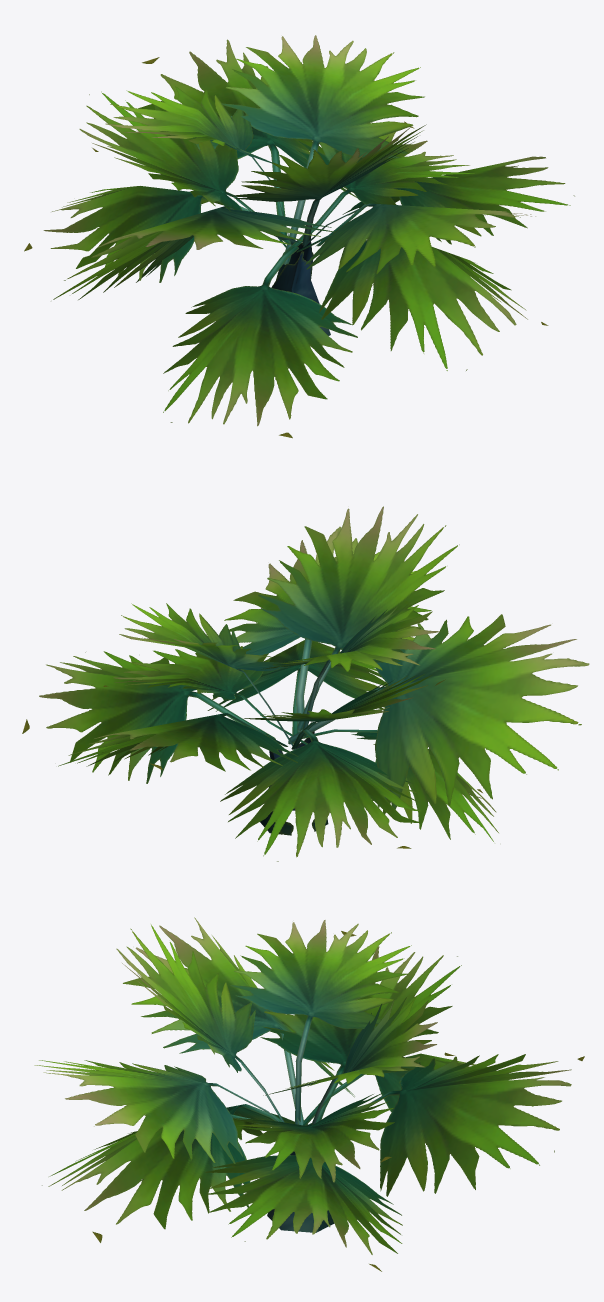
The model's file is grass_11.fbx.
3 views of the same model, one above another, from view 1: azimuth 30°, elevation 25°; view 2: azimuth 150°, elevation 25°; view 3: azimuth 270°, elevation 25° (orthographic). The views are drawn at different scales.
Visible parts, largest first — view 1: grass_11; view 2: grass_11; view 3: grass_11.
Part boxes in pixels (x1,y1,x2,y2): grass_11: (24, 35, 574, 438); grass_11: (22, 506, 589, 861); grass_11: (34, 917, 584, 1271).
Size of the model in its own units: 684 by 369 by 654.
Materials: 1 (1 with a texture image).
